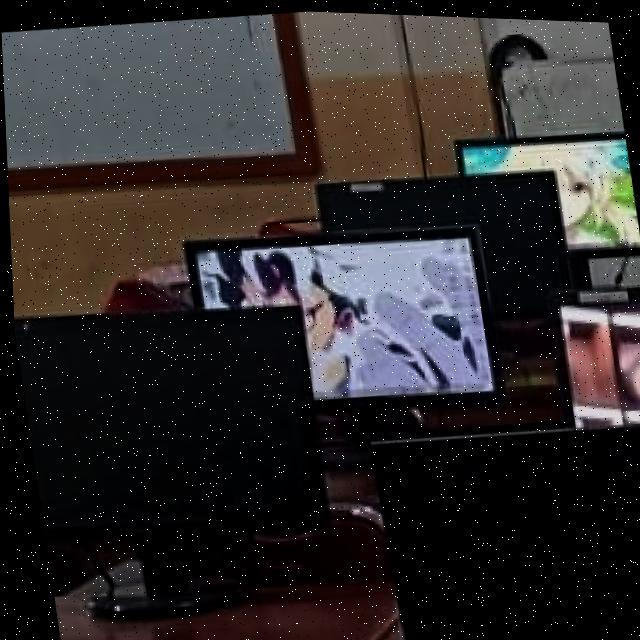offscreen: (11, 305, 321, 529), (371, 423, 640, 640), (315, 168, 567, 314)
onscreen: (182, 221, 496, 398), (455, 128, 639, 244)
